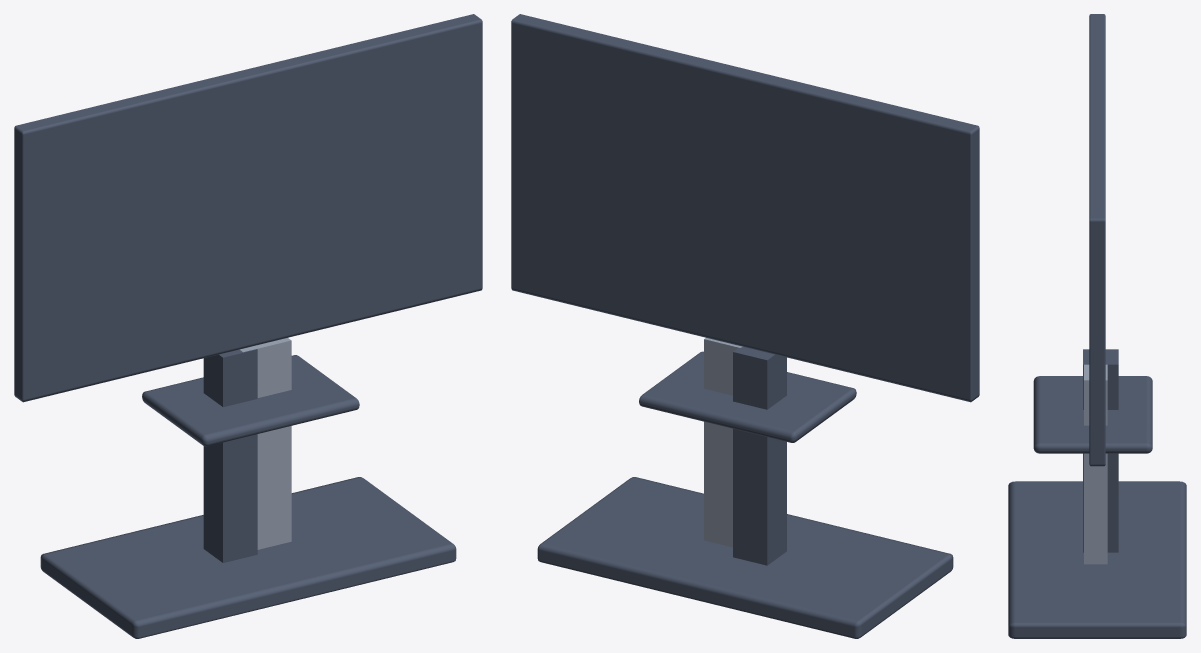
The model's file is 移动电视-lite.glb.
The picture shows the model from 3 angles, left to right: view 1: azimuth 30°, elevation 25°; view 2: azimuth 150°, elevation 25°; view 3: azimuth 270°, elevation 25°; orthographic projection. The views are drawn at different scales.
Visible parts, largest first — view 1: tv_mobile; view 2: tv_mobile; view 3: tv_mobile.
Part boxes in pixels (x1,y1,x2,y2): tv_mobile: (14,14,482,638); tv_mobile: (511,14,979,638); tv_mobile: (1008,14,1186,638).
Bounding box in the file's own units: 1.5 × 1.55 × 0.55.
